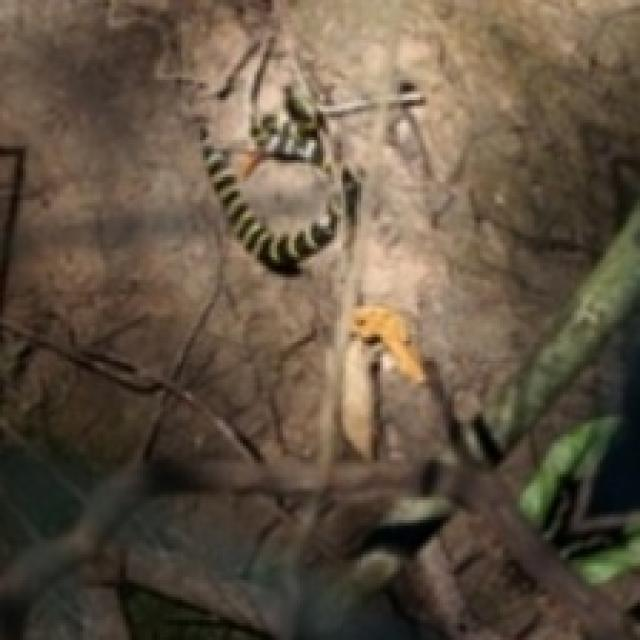mangrove cat snake: (200, 31, 423, 271)
